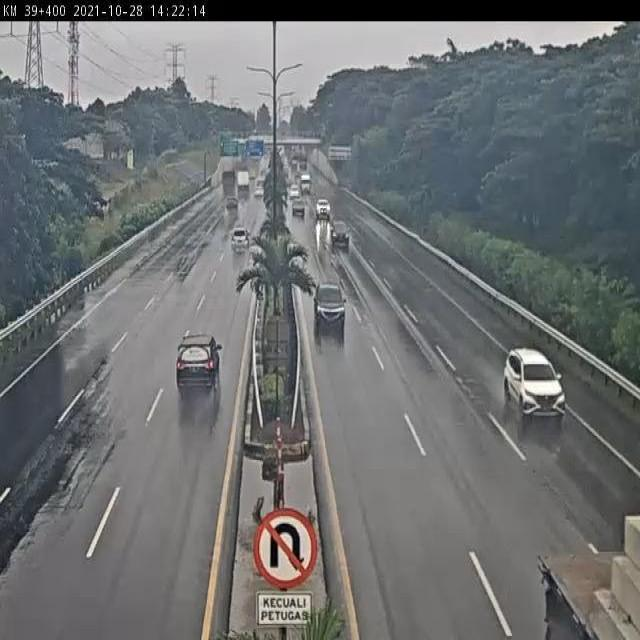car: (503, 343, 567, 421), (175, 330, 224, 394), (311, 283, 348, 329), (228, 227, 252, 253), (290, 196, 307, 219)
